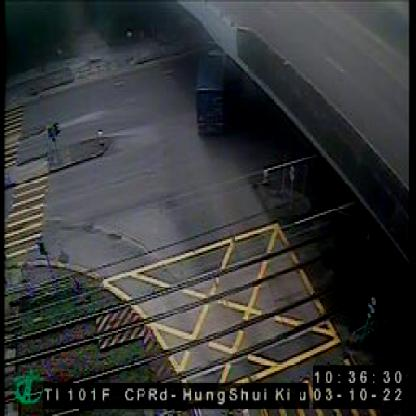Truck: (196, 45, 229, 137)
